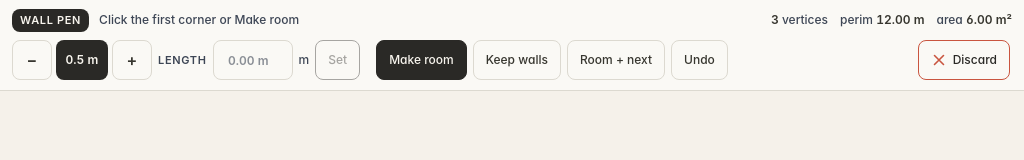
Test: reserved wall drawing dock › makes a room and clears the in-progress run without keeping loose walls
Click the button "Make room". click: (421, 60)
box: [376,40,467,80]
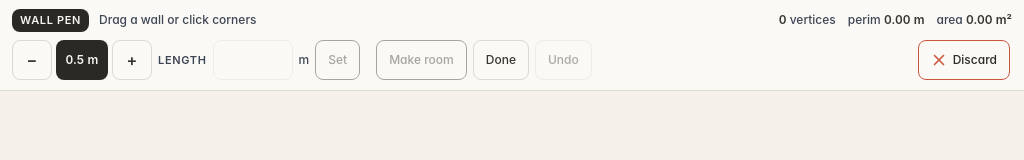
Expected: the element with test id "room-draw-vertices-count" shows "0", [779,12,786,27]
